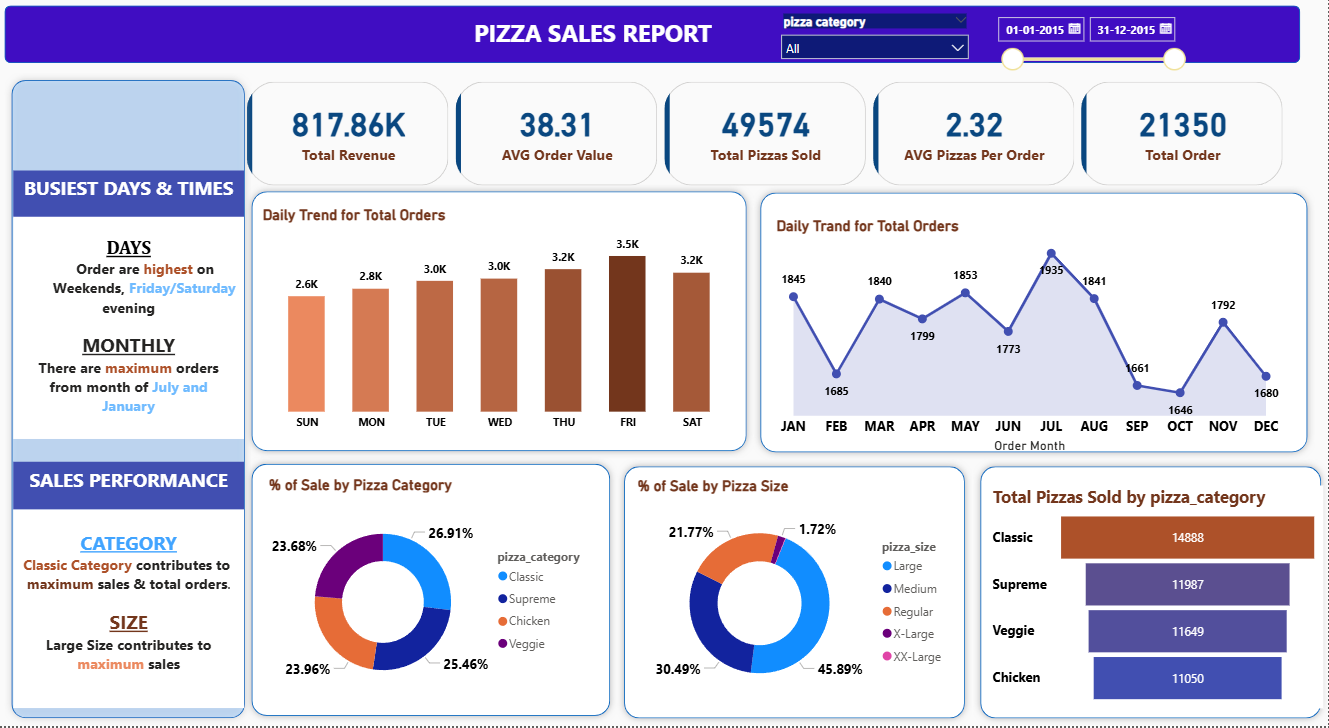

What the dashboard file says about the page in this screenshot:
{"tool":"powerbi","page":{"name":"Page 1","canvas":[1500,820],"ordinal":0},"visuals":[{"type":"cardVisual","fields":{"Data":["pizza_sales.Total Revenue","pizza_sales.AVG Order Value","pizza_sales.Total Pizzas Sold","pizza_sales.AVG Pizzas Per Order","pizza_sales.Total Order"]},"box":[264.8,77.3,1204.5,151.1],"z":0},{"type":"shape","box":[8.8,8.8,1460,65],"z":1000},{"type":"textbox","box":[532.5,15,290,58.8],"z":2000},{"type":"shape","box":[278.8,210,573.8,308.8],"z":3000},{"type":"columnChart","title":"Daily Trend for Total Orders","fields":{"Category":["pizza_sales.Order Day"],"Y":["pizza_sales.Total Order"]},"box":[293.8,233.8,545,262.5],"z":4000},{"type":"shape","box":[852.5,211.2,632.5,308.8],"z":5000},{"type":"areaChart","title":"Daily Trand for Total Orders","fields":{"Category":["pizza_sales.Order Month"],"Y":["pizza_sales.Total Order"]},"box":[873.8,246.2,581.2,271.2],"z":6000},{"type":"shape","box":[278.8,517.5,420,300],"z":7000},{"type":"shape","box":[1100,520,400,300],"z":8000},{"type":"shape","box":[698.8,520,400,300],"z":9000},{"type":"donutChart","title":"% of Sale by Pizza Category","fields":{"Category":["pizza_sales.pizza_category"],"Y":["pizza_sales.Total Revenue"]},"box":[301.2,537.5,376.2,260],"z":10000},{"type":"donutChart","title":"% of Sale by Pizza Size","fields":{"Y":["pizza_sales.Total Revenue"],"Category":["pizza_sales.pizza_size"]},"box":[716.2,540,365,260],"z":11000},{"type":"funnel","fields":{"Category":["pizza_sales.pizza_category"],"Y":["pizza_sales.Total Pizzas Sold"]},"box":[1116.2,548.8,377.5,251.2],"z":12000},{"type":"shape","box":[8.8,85,278.8,735],"z":13000},{"type":"textbox","box":[18.8,193.8,260,52.5],"z":14000},{"type":"textbox","box":[18.8,246.2,260,250],"z":15000},{"type":"textbox","box":[18.8,576.2,260,223.8],"z":16000},{"type":"textbox","box":[18.8,522.5,260,53.8],"z":17000},{"type":"slicer","fields":{"Values":["pizza_sales.pizza_category"]},"box":[873.9,12.5,231.8,64.8],"z":17001},{"type":"slicer","fields":{"Values":["pizza_sales.order_date"]},"box":[1115.9,11.4,231.8,73.9],"z":17002}]}

Visuals, with their boxes in screenshot pixels (x1, y1, x2, y2), scaled from the page's 1500x820 canvas onto the 1329x728 screenshot:
cardVisual - pizza_sales.Total Revenue x pizza_sales.AVG Order Value: BBox(235, 69, 1302, 203)
shape: BBox(8, 8, 1301, 66)
textbox: BBox(472, 13, 729, 66)
shape: BBox(247, 186, 755, 461)
"Daily Trend for Total Orders" columnChart: BBox(260, 208, 743, 441)
shape: BBox(755, 188, 1316, 462)
"Daily Trand for Total Orders" areaChart: BBox(774, 219, 1289, 459)
shape: BBox(247, 459, 619, 726)
shape: BBox(975, 462, 1328, 727)
shape: BBox(619, 462, 974, 727)
"% of Sale by Pizza Category" donutChart: BBox(267, 477, 600, 708)
"% of Sale by Pizza Size" donutChart: BBox(635, 479, 958, 710)
funnel - pizza_sales.pizza_category x pizza_sales.Total Pizzas Sold: BBox(989, 487, 1323, 710)
shape: BBox(8, 75, 255, 727)
textbox: BBox(17, 172, 247, 219)
textbox: BBox(17, 219, 247, 441)
textbox: BBox(17, 512, 247, 710)
textbox: BBox(17, 464, 247, 512)
slicer - pizza_sales.pizza_category: BBox(774, 11, 980, 69)
slicer - pizza_sales.order_date: BBox(989, 10, 1194, 76)
